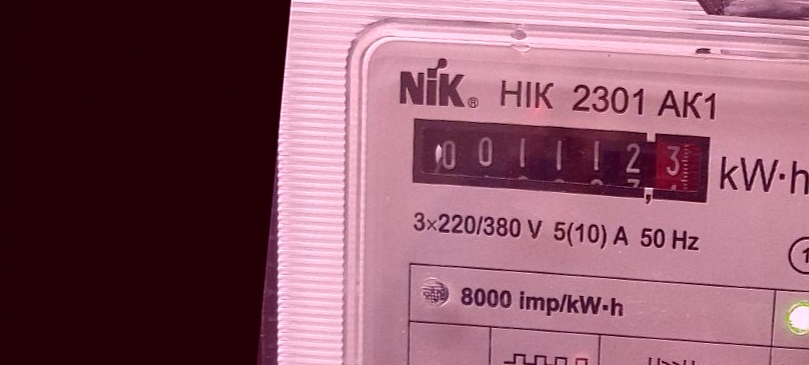0: (472, 131, 498, 171), (436, 135, 461, 172)
1: (511, 132, 533, 171), (549, 135, 567, 174), (587, 136, 605, 174)
2: (620, 139, 645, 177)
3: (661, 142, 682, 179)
screen: (400, 105, 719, 215)
